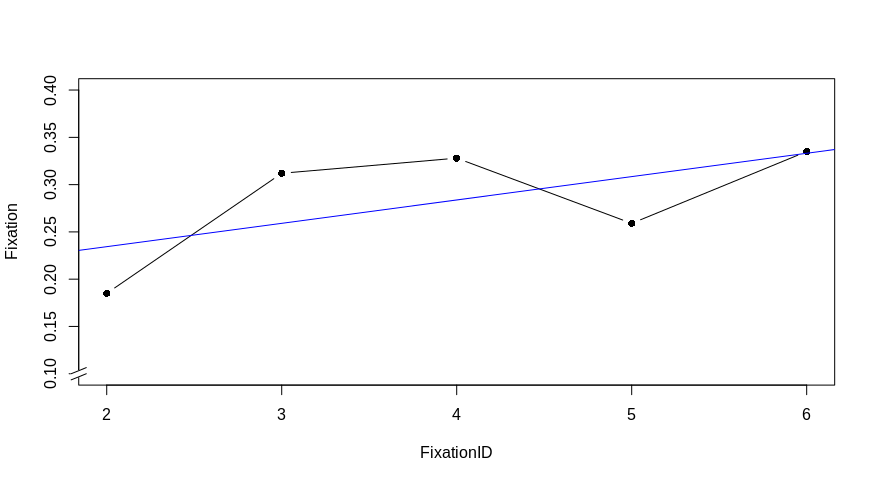S1_AxisNotZero: (32, 41, 862, 478)
